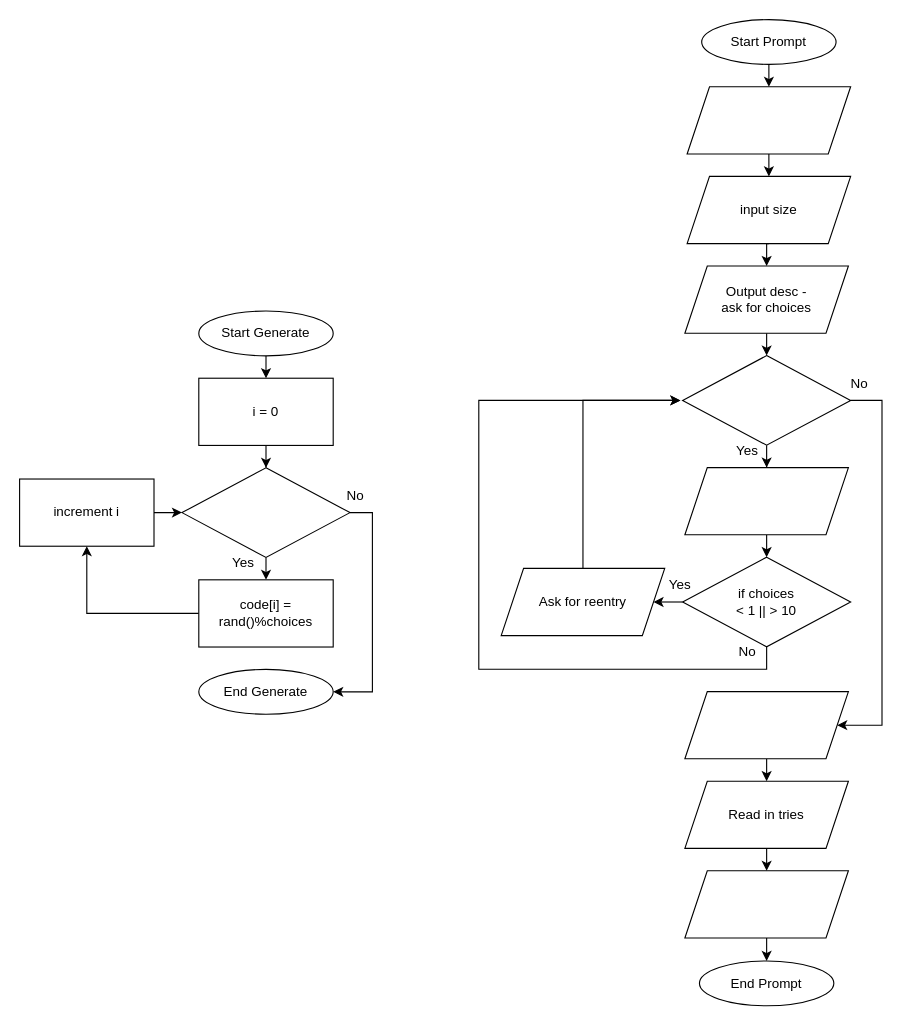
Some shapes in this 913 by 1026 pixel diagram are drawn without their labels. The shapes that lost their labels are listed below. From the top down, each one's box as (x1, y1, x2, y2) in pixels, then its label:
(686, 86, 851, 154): Output intro - ask for size
(682, 354, 851, 445): while choices < 1 || > 10
(181, 467, 350, 557): i < size
(684, 466, 848, 535): Read in choices
(684, 690, 848, 759): Output - ask for tries
(684, 870, 848, 938): cin.ignore() cout >> endl
